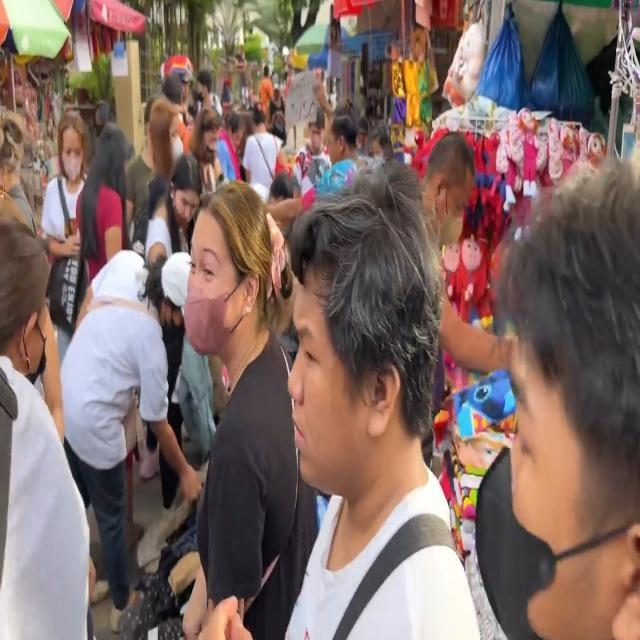hairnet: (170, 182, 198, 230)
